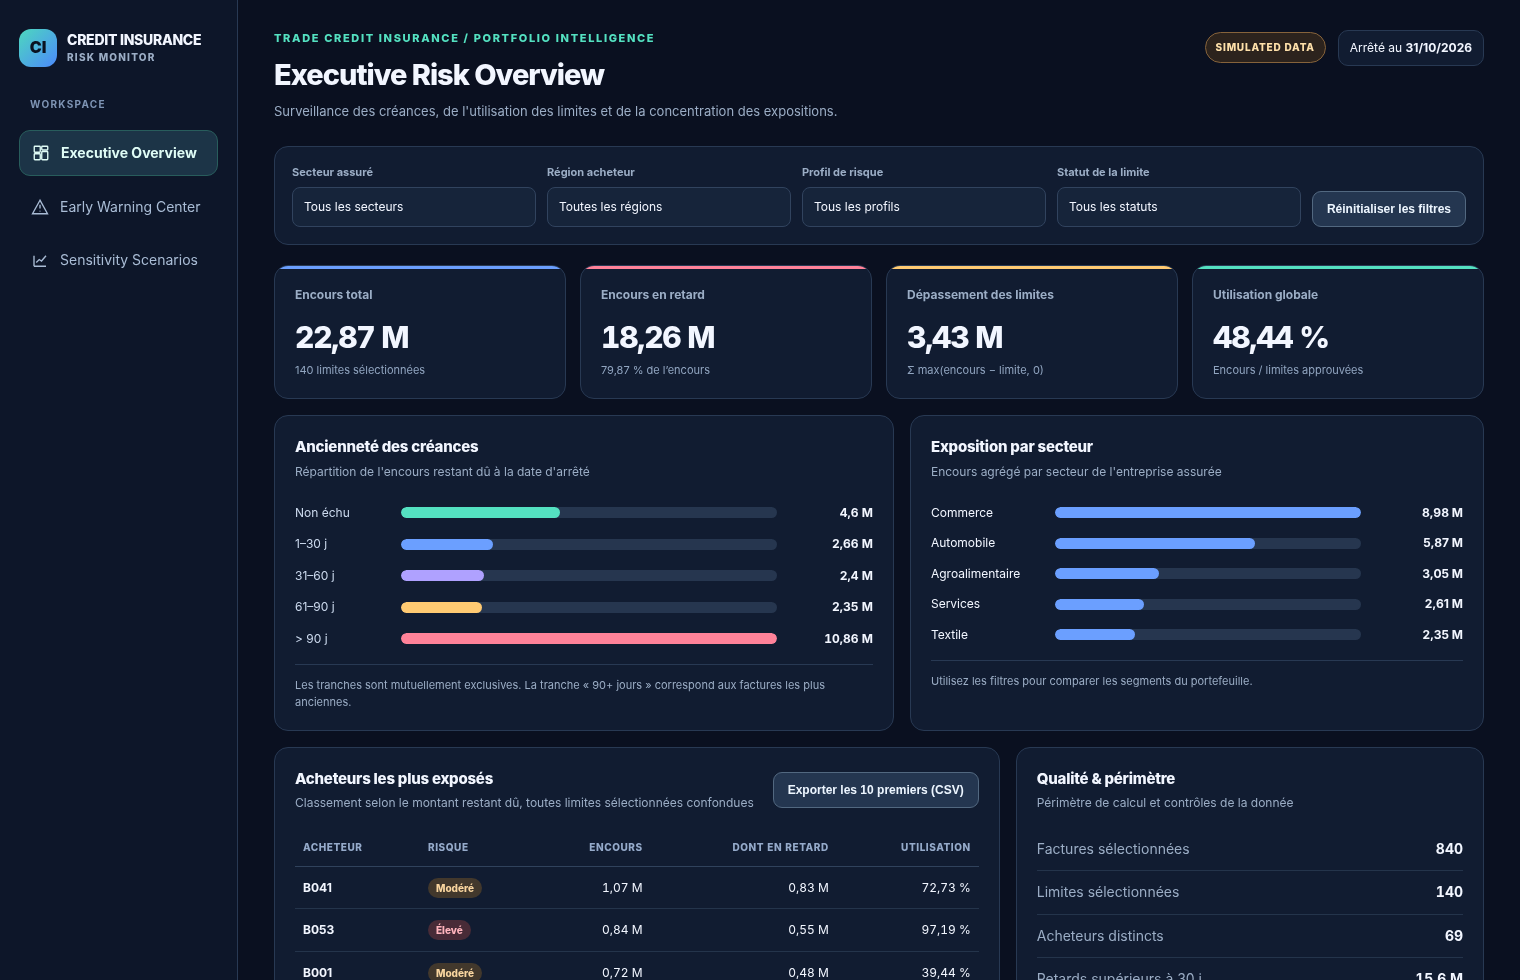

The page's visual inventory and layout, read from the dashboard file:
{"tool":"powerbi","page":{"name":"Portfolio Overview","canvas":[1280,720],"ordinal":0},"visuals":[{"type":"shape","box":[0,0,1280,111],"z":0},{"type":"shape","box":[0,0,10,111],"z":0},{"type":"shape","box":[40,100,1200,2],"z":0},{"type":"shape","box":[35,231,1210,2],"z":0},{"type":"shape","box":[40,659,1200,2],"z":0},{"type":"shape","box":[39,387,5,23],"z":2},{"type":"textbox","box":[40,15,1040,50],"z":10},{"type":"textbox","box":[42,67,980,30],"z":10},{"type":"textbox","box":[45,678,1180,27],"z":10},{"type":"slicer","fields":{"Values":["Portfolio.sector"]},"box":[20,128,242,72],"z":12},{"type":"slicer","fields":{"Values":["Portfolio.region"]},"box":[285,128,260,72],"z":12},{"type":"slicer","fields":{"Values":["Portfolio.risk_band"]},"box":[570,128,260,72],"z":12},{"type":"slicer","fields":{"Values":["Portfolio.status"]},"box":[855,128,250,72],"z":12},{"type":"cardVisual","fields":{"Data":["Portfolio.Encours Total MAD"]},"box":[20,254,288,125],"z":12},{"type":"cardVisual","fields":{"Data":["Portfolio.Encours en Retard MAD"]},"box":[330,254,288,125],"z":12},{"type":"cardVisual","fields":{"Data":["Portfolio.Depassement MAD"]},"box":[640,254,288,125],"z":12},{"type":"cardVisual","fields":{"Data":["Portfolio.Utilisation Globale"]},"box":[950,254,288,125],"z":12},{"type":"clusteredBarChart","title":"Encours par secteur","fields":{"Category":["Portfolio.sector"],"Y":["Portfolio.Encours Total MAD"]},"box":[20,414,585,230],"z":12},{"type":"clusteredBarChart","title":"Retards par région","fields":{"Category":["Portfolio.region"],"Y":["Portfolio.Encours en Retard MAD"]},"box":[625,414,585,230],"z":12},{"type":"textbox","box":[47,114,800,20],"z":15},{"type":"textbox","box":[40,386,420,25],"z":15}]}

Visuals, with their boxes on the page's 1280x720 design canvas (x1, y1, x2, y2). These are canvas units, not pixel positions in the 1520x980 screenshot, which may show the page scaled, cropped or inside an application window:
shape: [x1=0, y1=0, x2=1280, y2=111]
shape: [x1=0, y1=0, x2=10, y2=111]
shape: [x1=40, y1=100, x2=1240, y2=102]
shape: [x1=35, y1=231, x2=1245, y2=233]
shape: [x1=40, y1=659, x2=1240, y2=661]
shape: [x1=39, y1=387, x2=44, y2=410]
textbox: [x1=40, y1=15, x2=1080, y2=65]
textbox: [x1=42, y1=67, x2=1022, y2=97]
textbox: [x1=45, y1=678, x2=1225, y2=705]
slicer - Portfolio.sector: [x1=20, y1=128, x2=262, y2=200]
slicer - Portfolio.region: [x1=285, y1=128, x2=545, y2=200]
slicer - Portfolio.risk_band: [x1=570, y1=128, x2=830, y2=200]
slicer - Portfolio.status: [x1=855, y1=128, x2=1105, y2=200]
cardVisual - Portfolio.Encours Total MAD: [x1=20, y1=254, x2=308, y2=379]
cardVisual - Portfolio.Encours en Retard MAD: [x1=330, y1=254, x2=618, y2=379]
cardVisual - Portfolio.Depassement MAD: [x1=640, y1=254, x2=928, y2=379]
cardVisual - Portfolio.Utilisation Globale: [x1=950, y1=254, x2=1238, y2=379]
"Encours par secteur" clusteredBarChart: [x1=20, y1=414, x2=605, y2=644]
"Retards par région" clusteredBarChart: [x1=625, y1=414, x2=1210, y2=644]
textbox: [x1=47, y1=114, x2=847, y2=134]
textbox: [x1=40, y1=386, x2=460, y2=411]
